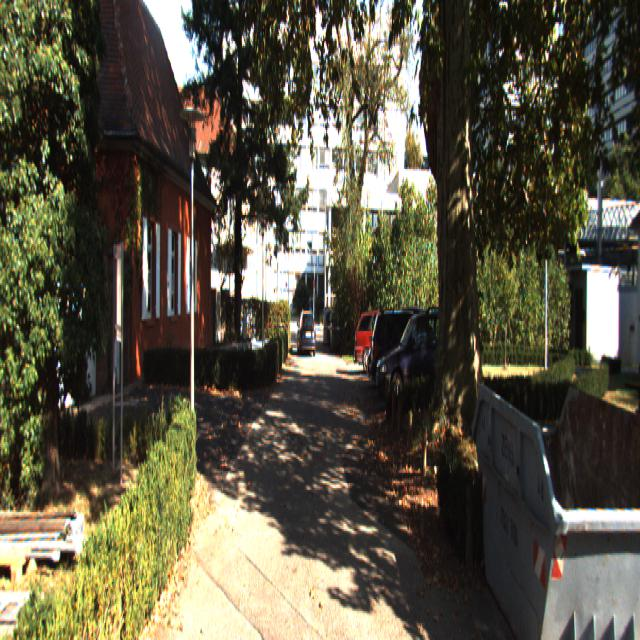Car: (374, 303, 469, 412), (368, 308, 449, 400), (366, 303, 432, 390), (354, 306, 416, 375), (626, 344, 640, 601), (298, 310, 316, 358)
